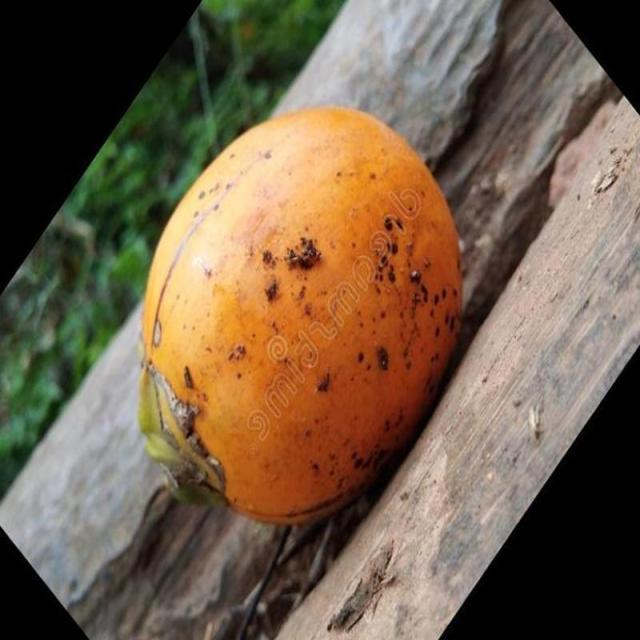good: (136, 107, 464, 528)
